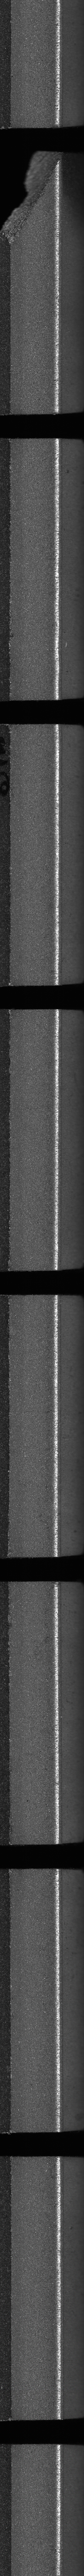Chip: (0, 146, 64, 251)
